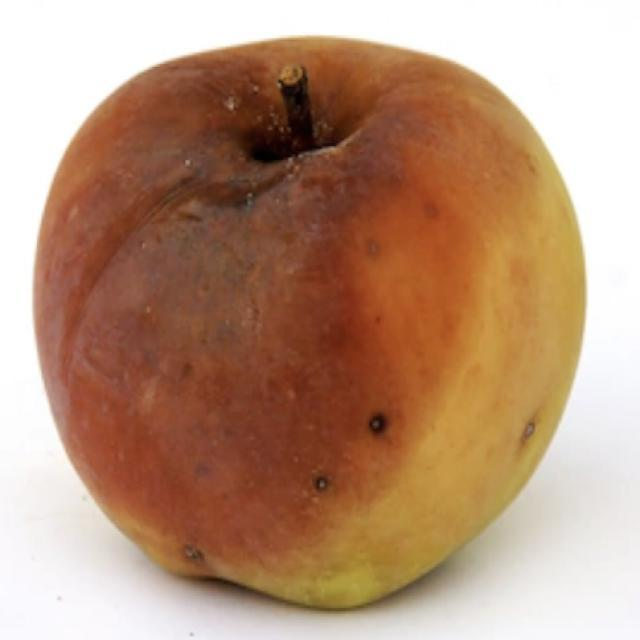Rotten: (55, 50, 595, 582)
